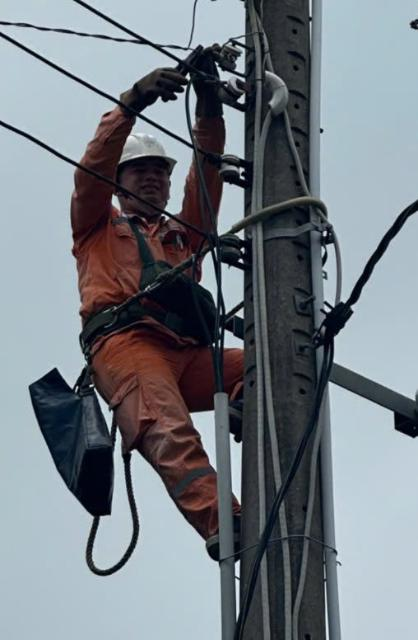gloves: (108, 55, 189, 125), (191, 44, 233, 127)
harness: (67, 282, 211, 353)
helmet: (110, 125, 178, 172)
